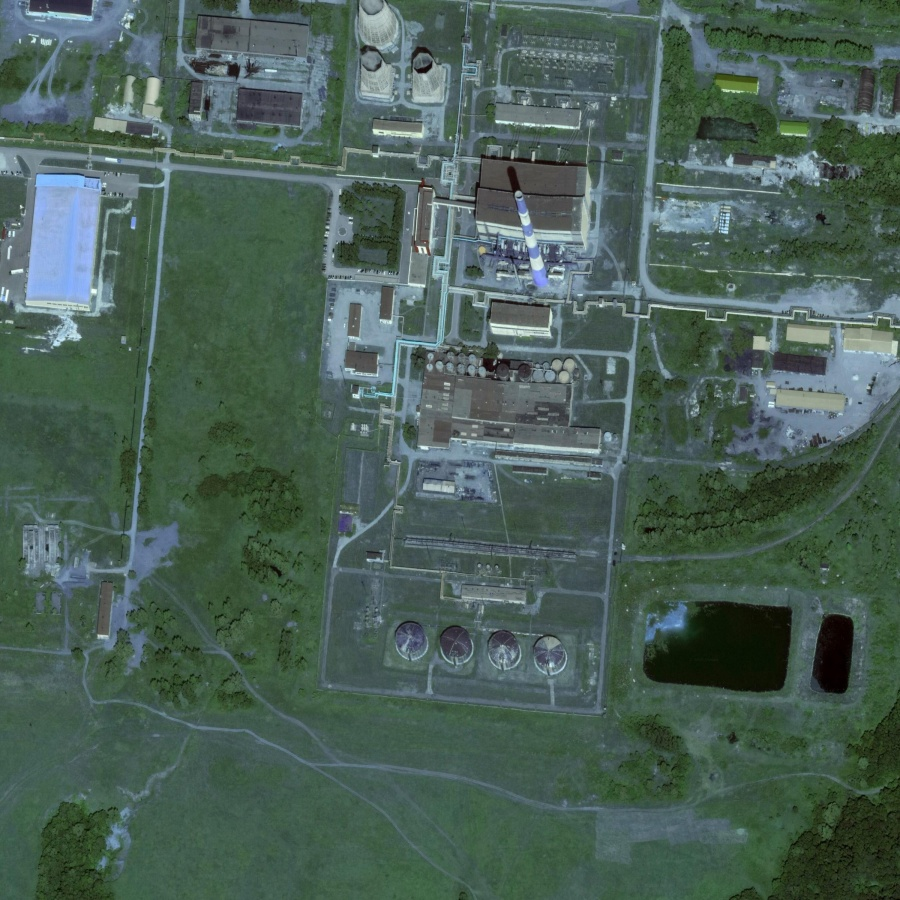PowerPlant: (388, 570, 598, 736), (633, 587, 867, 714)
